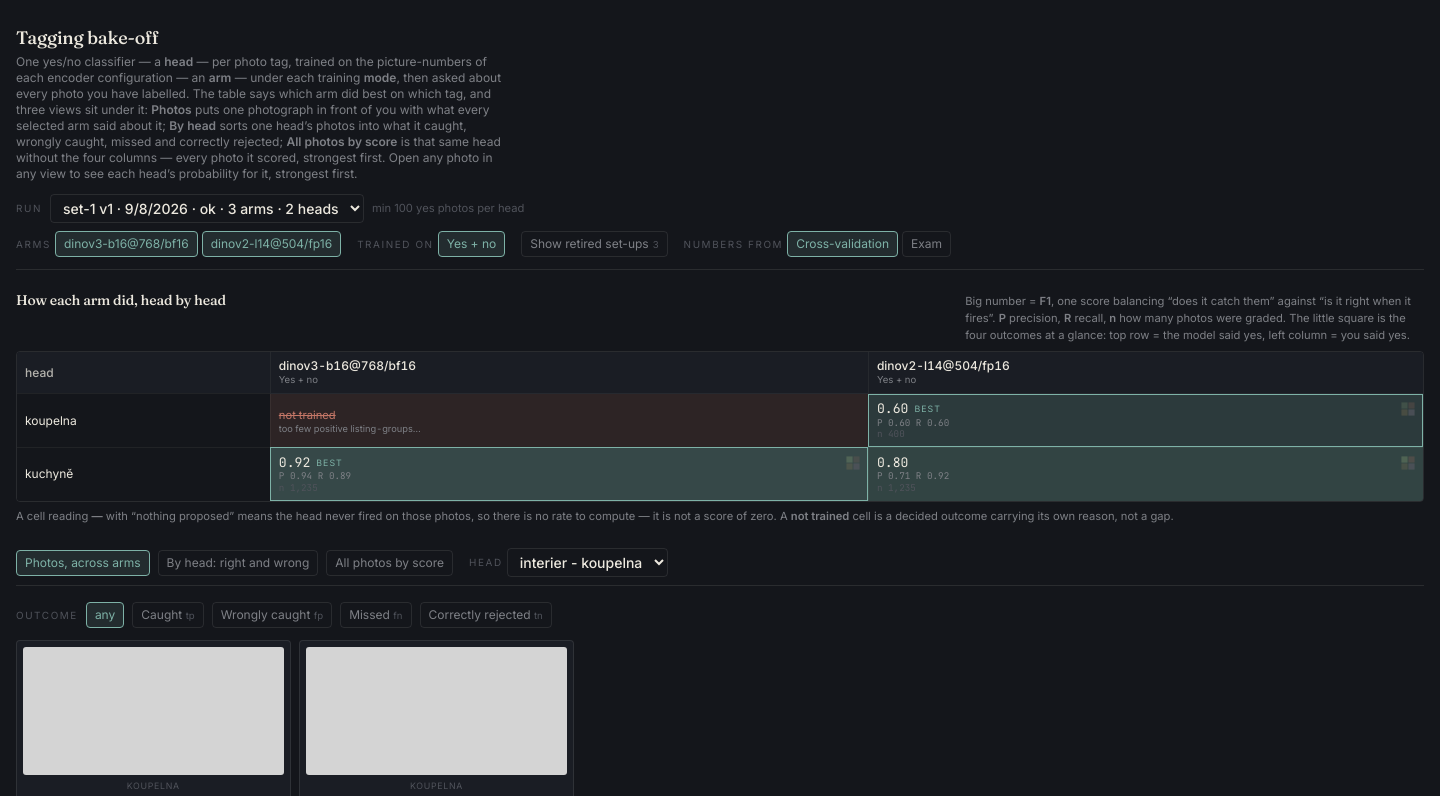
Test: <NewDedupTaggingBakeoff> — the narrowed defaults › the toggle reveals the retired arms and modes, and hides them again
Expected: the text with test id "retired-count" reads "3", [653, 239, 659, 250]
Click the button with test id "toggle-retired". click: (594, 244)
box: [521, 231, 668, 257]
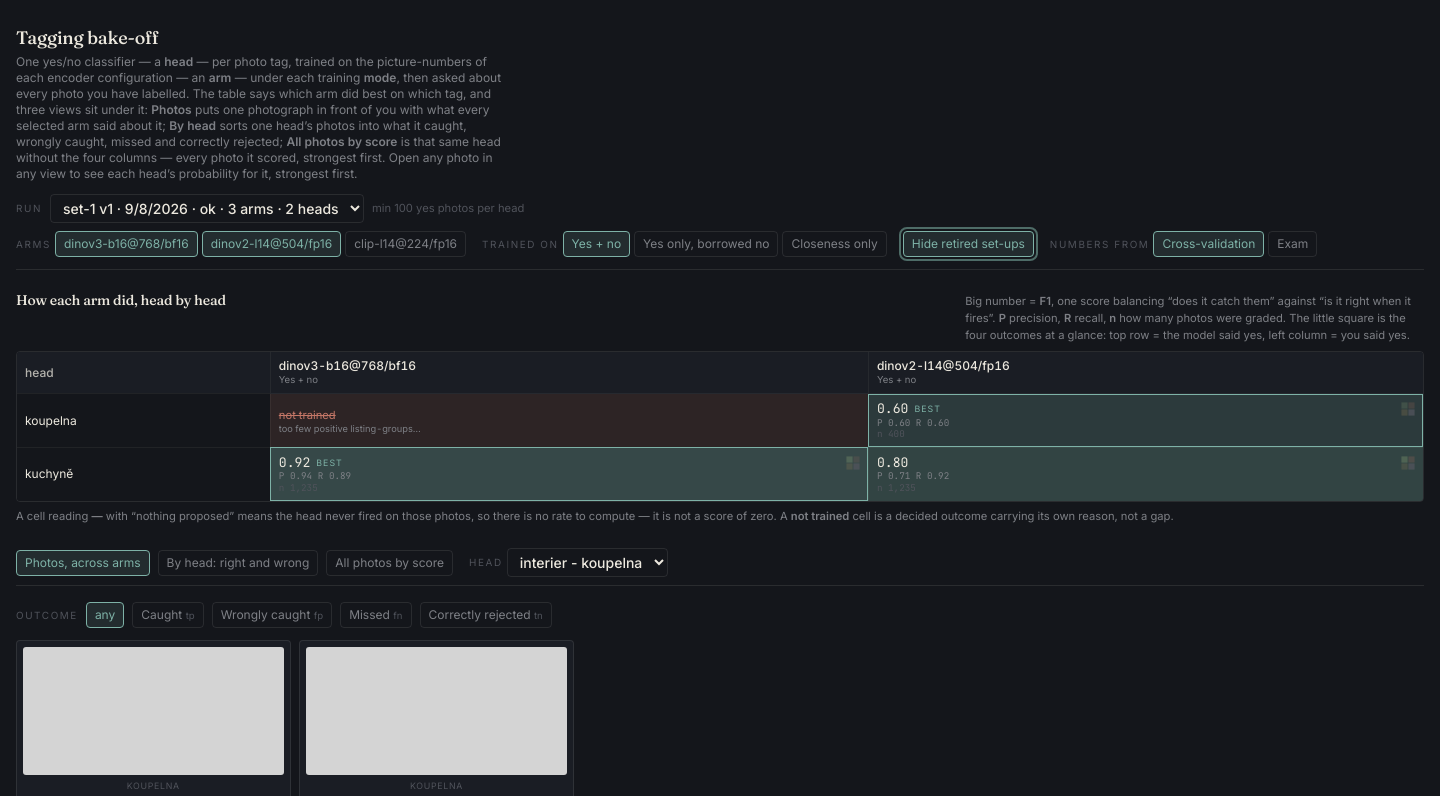
Result: the button with test id "arm-9" is shown at [345, 231, 466, 257]
Result: the button with test id "mode-pos_only_centroid" is shown at [782, 231, 887, 257]
Click the button with test id "toggle-retired". click: (968, 244)
box: [903, 231, 1034, 257]
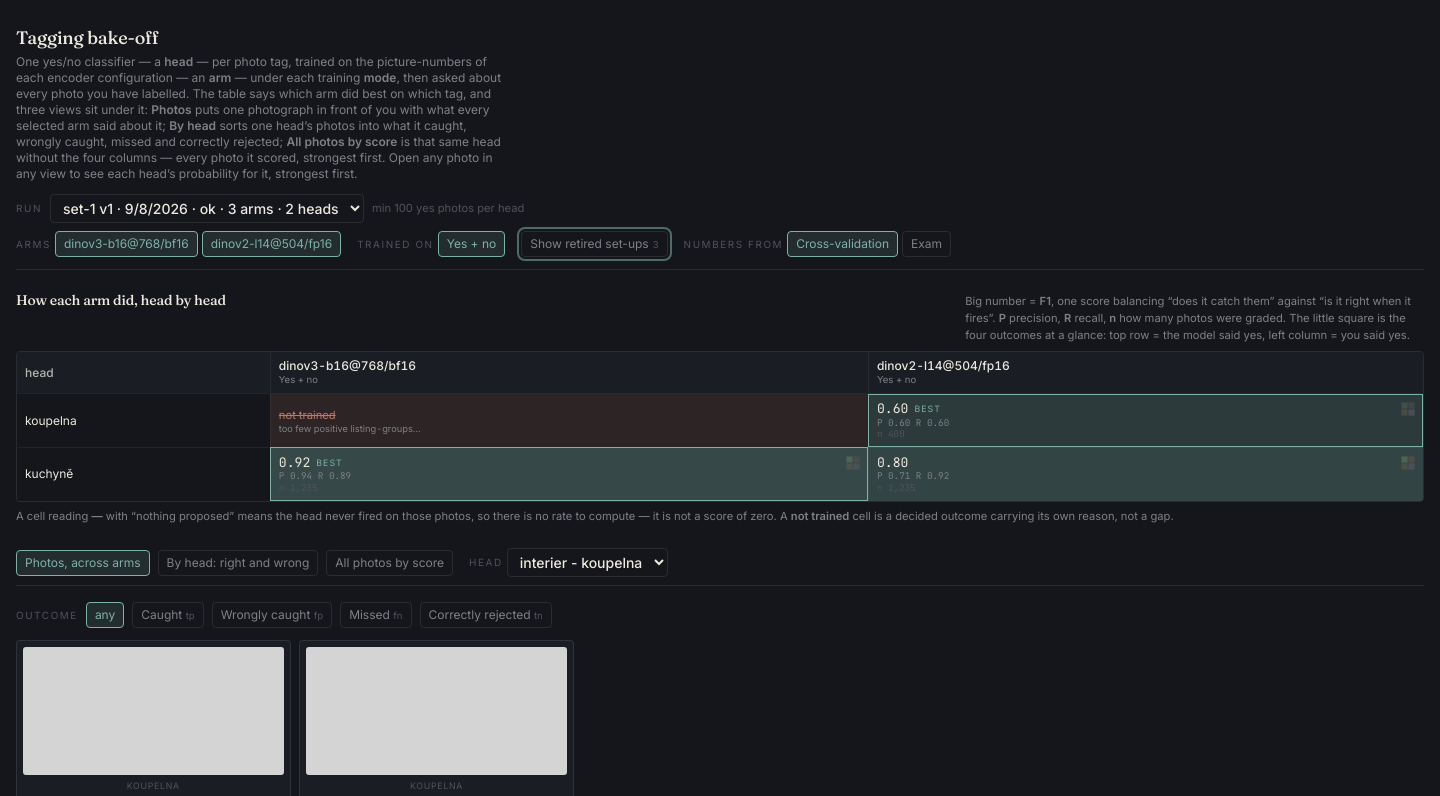
Result: the button with test id "arm-9" is gone
